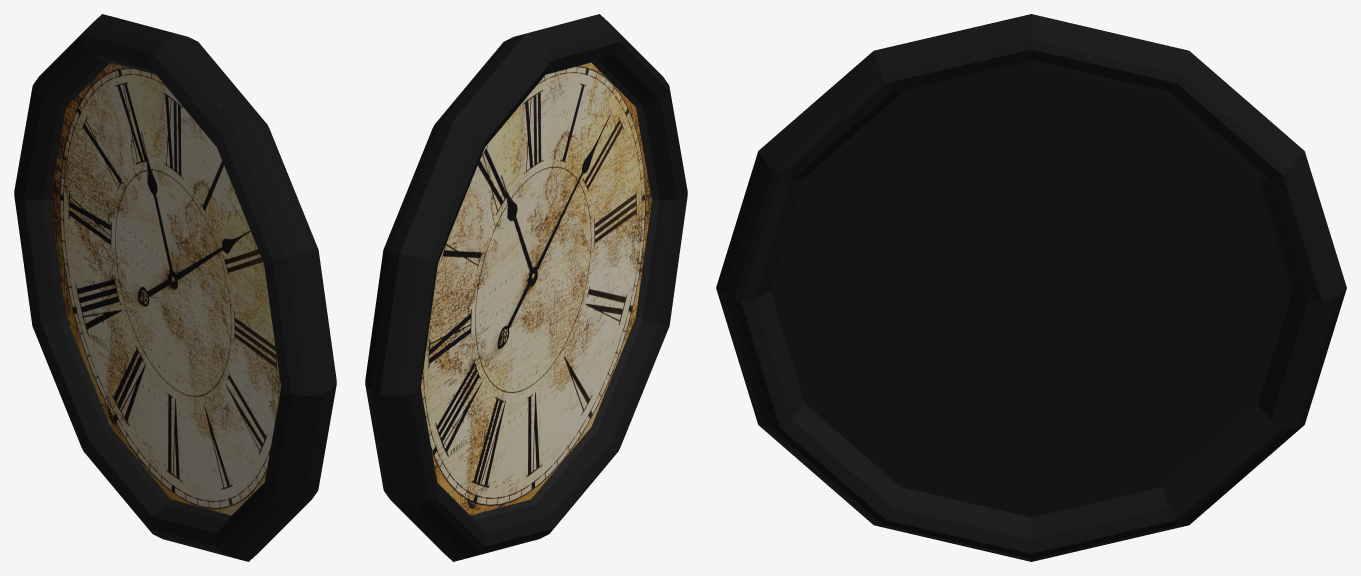
Rendered from clock.fbx.
3 renders of one model, left to right at view 1: azimuth 30°, elevation 25°; view 2: azimuth 150°, elevation 25°; view 3: azimuth 270°, elevation 25°, orthographic. The views are drawn at different scales.
Parts seen in each view (by area): view 1: clockFace, clockRim; view 2: clockFace, clockRim; view 3: clockFace, clockRim.
Part boxes in pixels (x1,y1,x2,y2): clockFace: [52, 62, 280, 515]; clockRim: [14, 14, 336, 561]; clockFace: [421, 62, 651, 515]; clockRim: [365, 14, 687, 561]; clockFace: [770, 63, 1292, 517]; clockRim: [716, 14, 1346, 561].
Size of the model in its own units: 0.3201 by 2.96 by 3.09.
